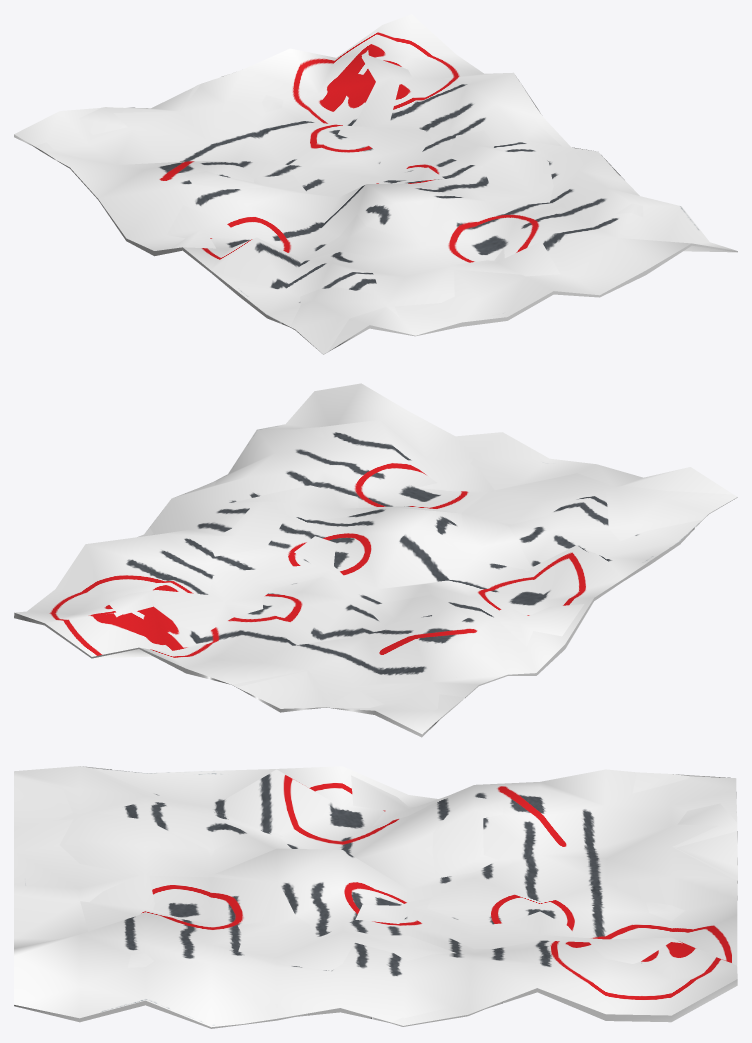
The model's file is Paper_1.fbx.
The picture shows the model from 3 angles, top to bottom: view 1: azimuth 30°, elevation 25°; view 2: azimuth 150°, elevation 25°; view 3: azimuth 270°, elevation 25°; orthographic projection. The views are drawn at different scales.
Visible parts, largest first — view 1: Paper_1; view 2: Paper_1; view 3: Paper_1.
Part boxes in pixels (x1,y1,x2,y2): Paper_1: [14, 14, 737, 354]; Paper_1: [14, 383, 737, 737]; Paper_1: [14, 766, 737, 1028].
Bounding box in the file's own units: 361 × 45.5 × 468.
